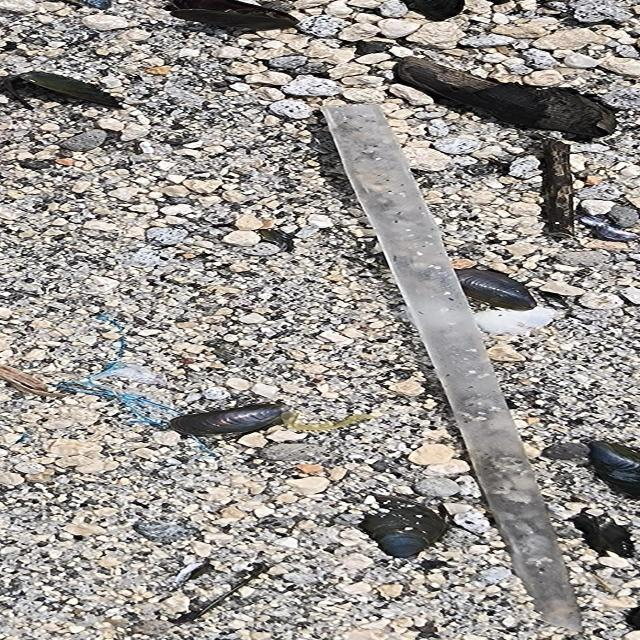plastic_waste: (317, 101, 589, 637)
